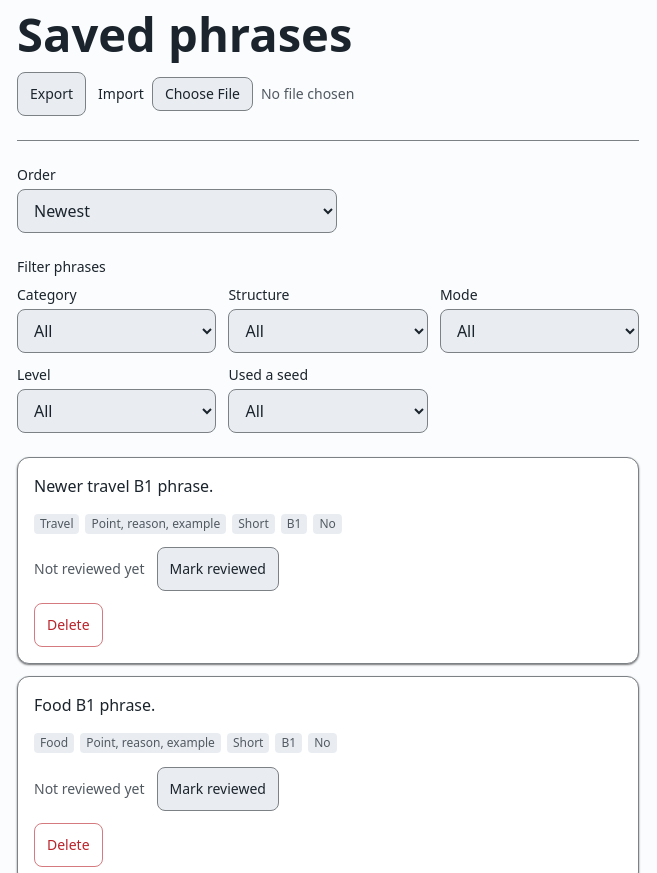
Test case: PhrasesPage › combines category and level filters with AND semantics and sorts newest first
Select "Travel" in the dropdown labelled "Category" at [117, 331], box top-left (17, 309), bottom-right (216, 353)
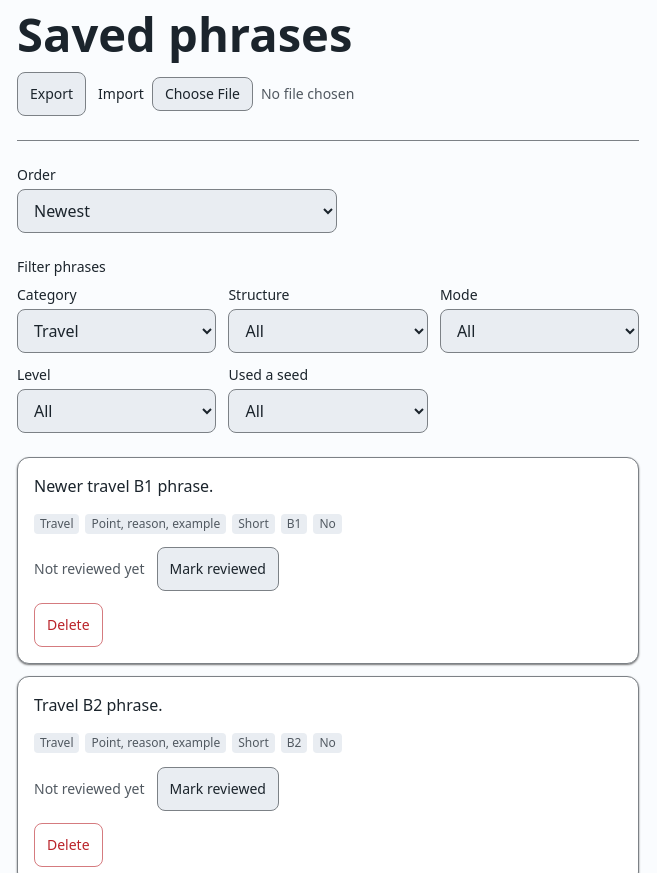
Select "B1" in the dropdown labelled "Level" at [117, 411], box top-left (17, 389), bottom-right (216, 433)
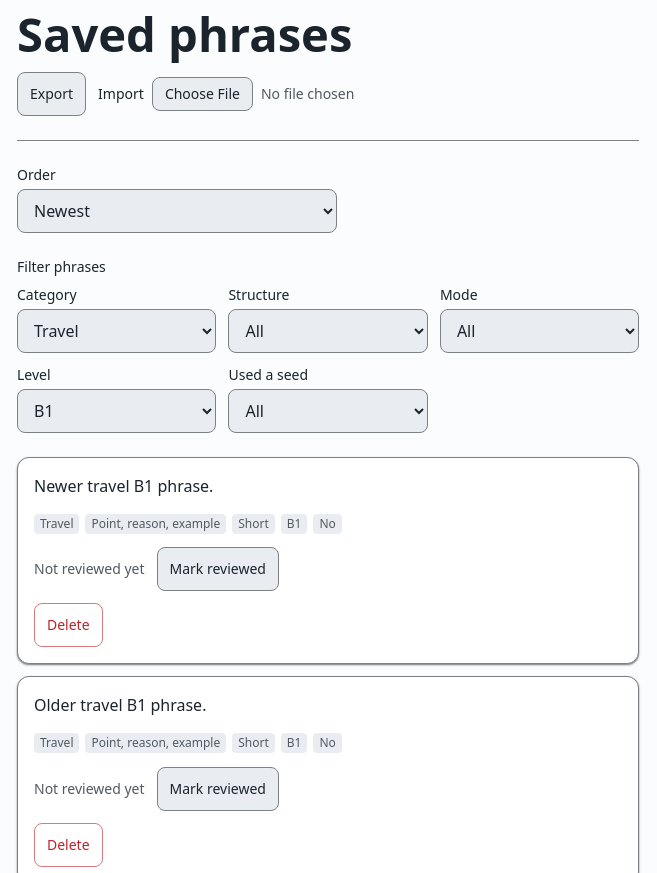
Expected: the text "Older travel B1 phrase." is shown, top-left (34, 694), bottom-right (206, 716)
Expected: the text "Travel B2 phrase." is gone
